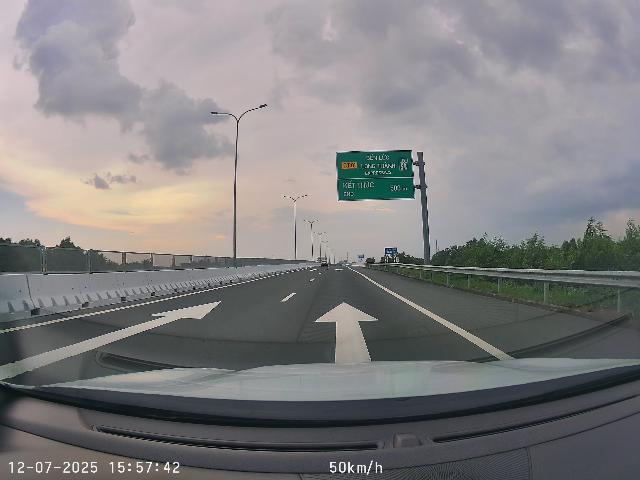438-ket-thuc-duong-cao-toc: (398, 157, 409, 171)
